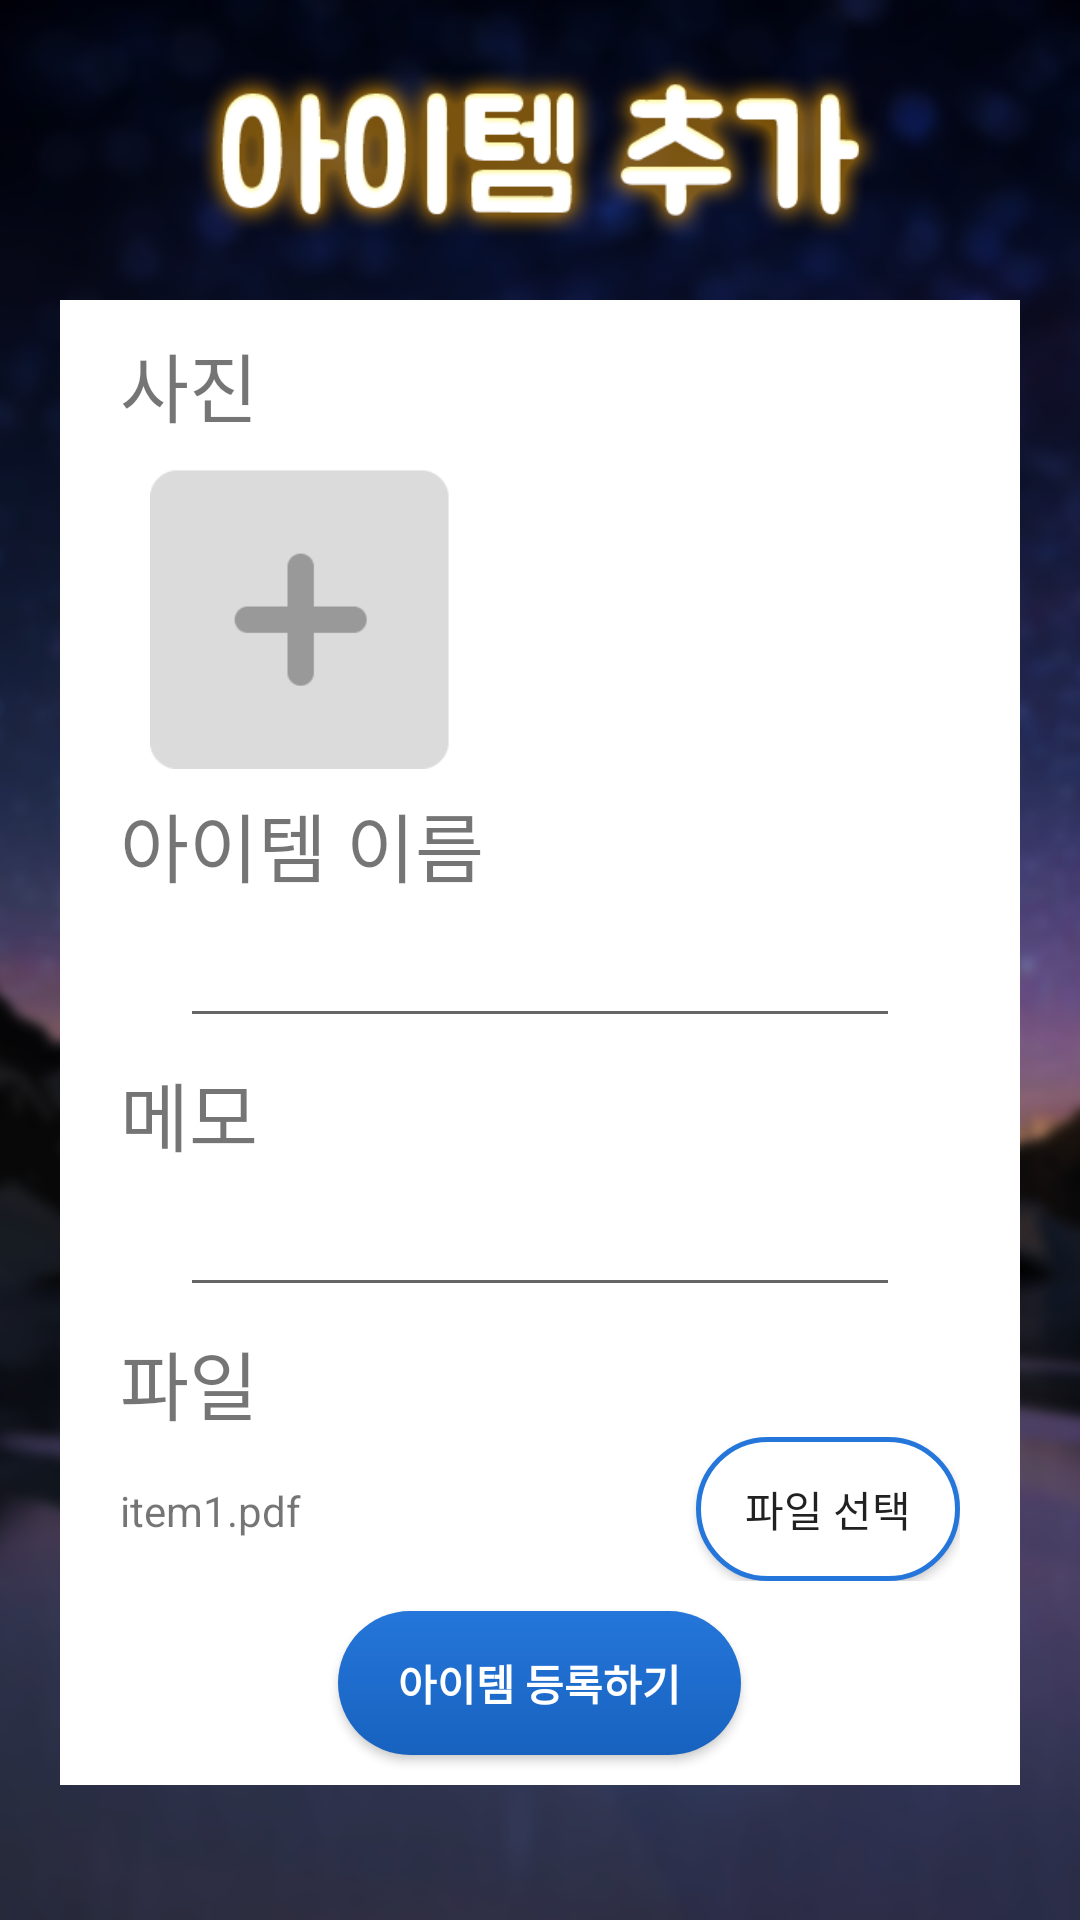

Where to tap for icons on this 1080px×1920px app screen, as (x=x, y=y):
add: (x=299, y=620)
